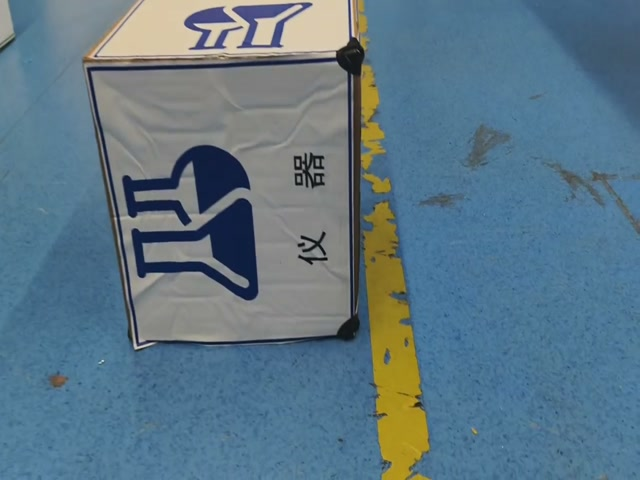Cube_ins: (77, 0, 356, 72)
